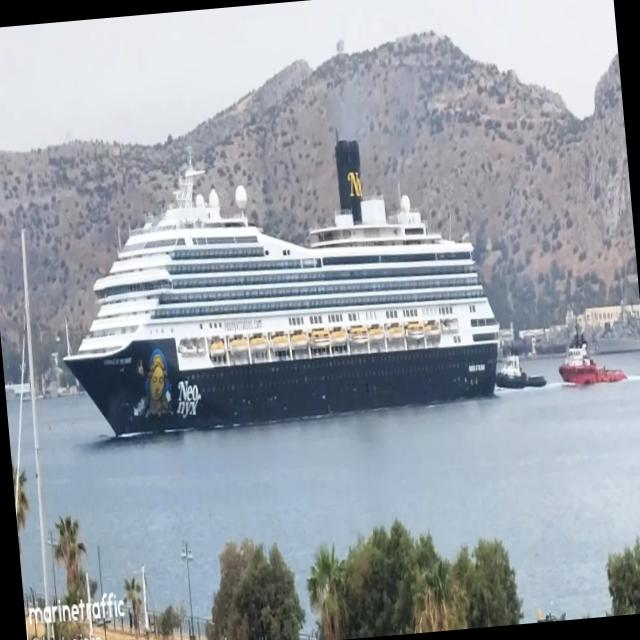Cruise: (63, 139, 499, 436)
Tug: (559, 340, 626, 386), (496, 354, 546, 388)
